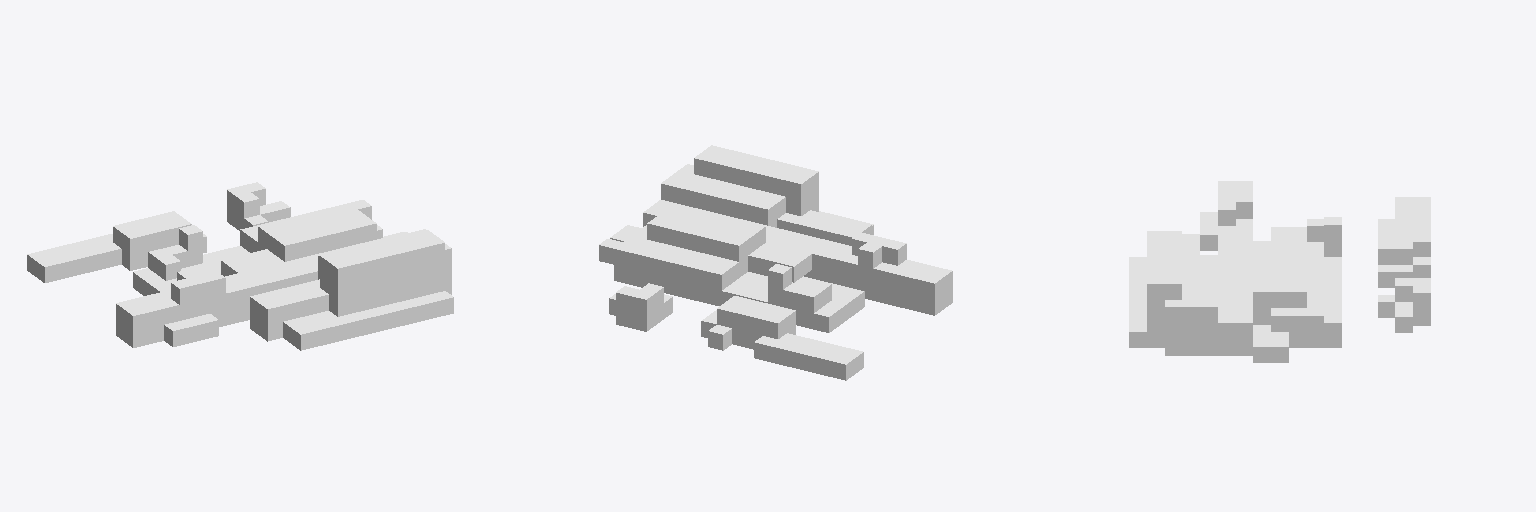
The model's file is rock2.obj.
3 renders of one model, left to right at view 1: azimuth 30°, elevation 25°; view 2: azimuth 150°, elevation 25°; view 3: azimuth 270°, elevation 25°, orthographic.
Parts seen in each view (by area): view 1: object 1; view 2: object 1; view 3: object 1.
Part boxes in pixels (x1,y1,x2,y2): object 1: (27,182,453,350); object 1: (599,145,952,380); object 1: (1129,181,1430,362).
Bounding box in the file's own units: 2 × 0.4 × 1.7.